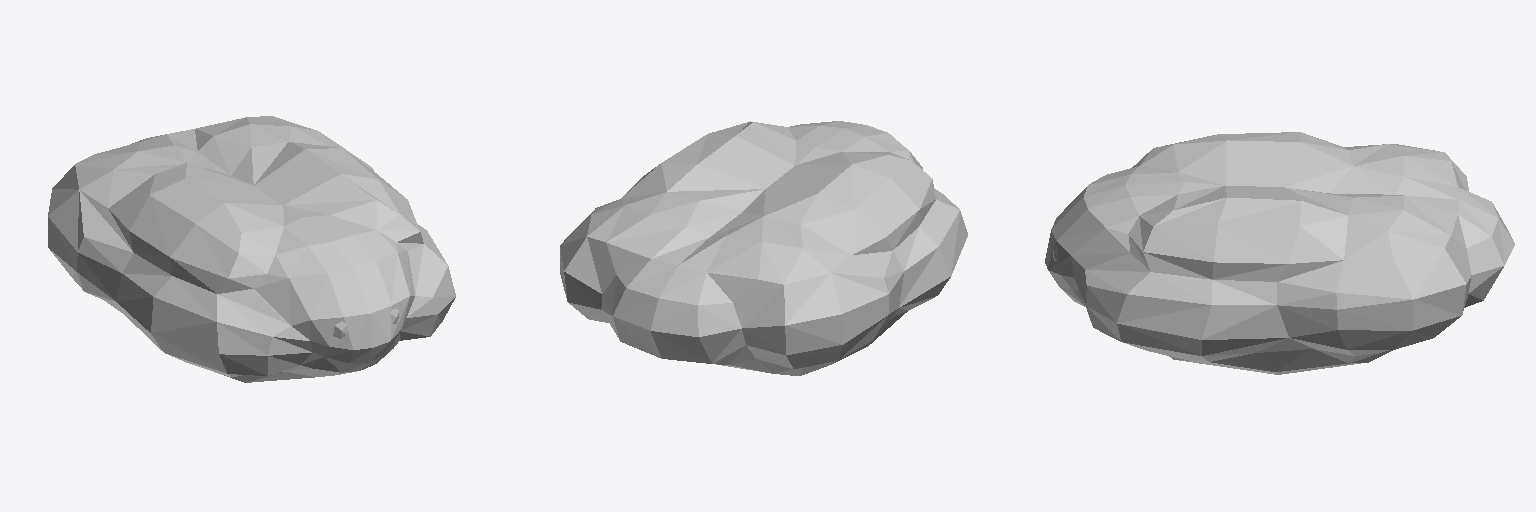
Rendered from Lakitu Cloud.obj.
The picture shows the model from 3 angles: view 1: azimuth 30°, elevation 25°; view 2: azimuth 150°, elevation 25°; view 3: azimuth 270°, elevation 25°; orthographic projection.
Visible parts, largest first — view 1: Mesh_0507; view 2: Mesh_0507; view 3: Mesh_0507.
Part boxes in pixels (left/top/right/bottom): Mesh_0507: left=48, top=116, right=455, bottom=382; Mesh_0507: left=560, top=121, right=967, bottom=375; Mesh_0507: left=1045, top=132, right=1514, bottom=374.
Bounding box in the file's own units: 2.09 × 1.16 × 2.84.